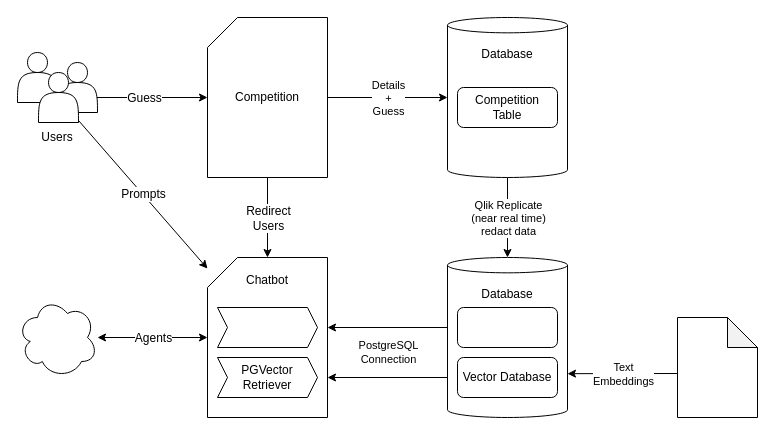
The diagram is 775 pixels wide and 435 high, and some of its shapes have lost their labels. Each missing label, with the centre of its shape:
Context Files: pixel 717 367
OpenAI LLM: pixel 57 337
Redacted Competition Table: pixel 507 327
SQL Agent: pixel 267 327
